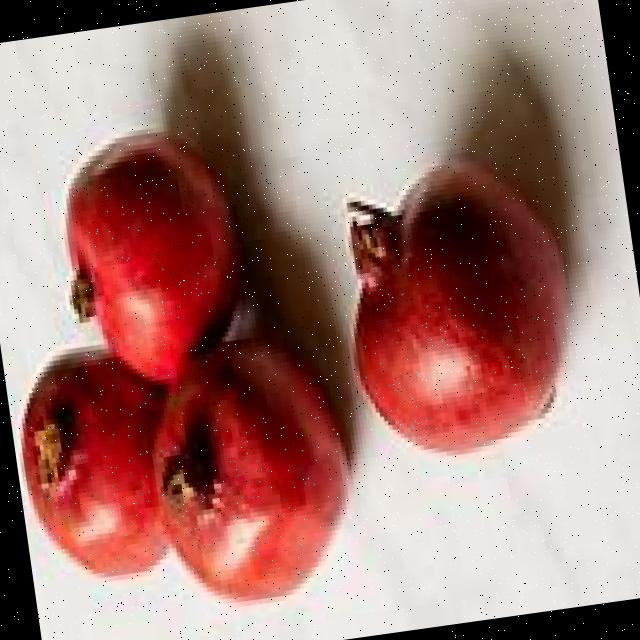Pomegranate: (327, 147, 590, 470), (135, 350, 373, 619), (44, 112, 262, 389), (5, 341, 164, 594)
